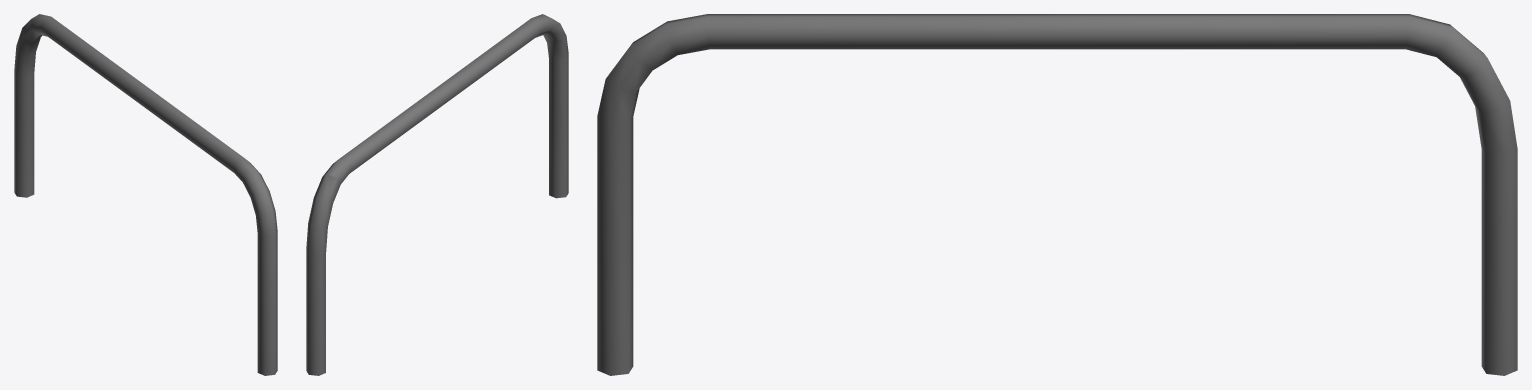
Rendered from Pipe 3.FBX.
The picture shows the model from 3 angles, left to right: view 1: azimuth 30°, elevation 25°; view 2: azimuth 150°, elevation 25°; view 3: azimuth 270°, elevation 25°; orthographic projection. The views are drawn at different scales.
Parts seen in each view (by area): view 1: Pipe 3; view 2: Pipe 3; view 3: Pipe 3.
Boxes of the visible parts, box(x1,y1,x2,y2) form: Pipe 3: box(14, 14, 277, 375); Pipe 3: box(306, 14, 568, 375); Pipe 3: box(597, 14, 1517, 375).
Size of the model in its own units: 0.0103 by 0.1102 by 0.2603.
